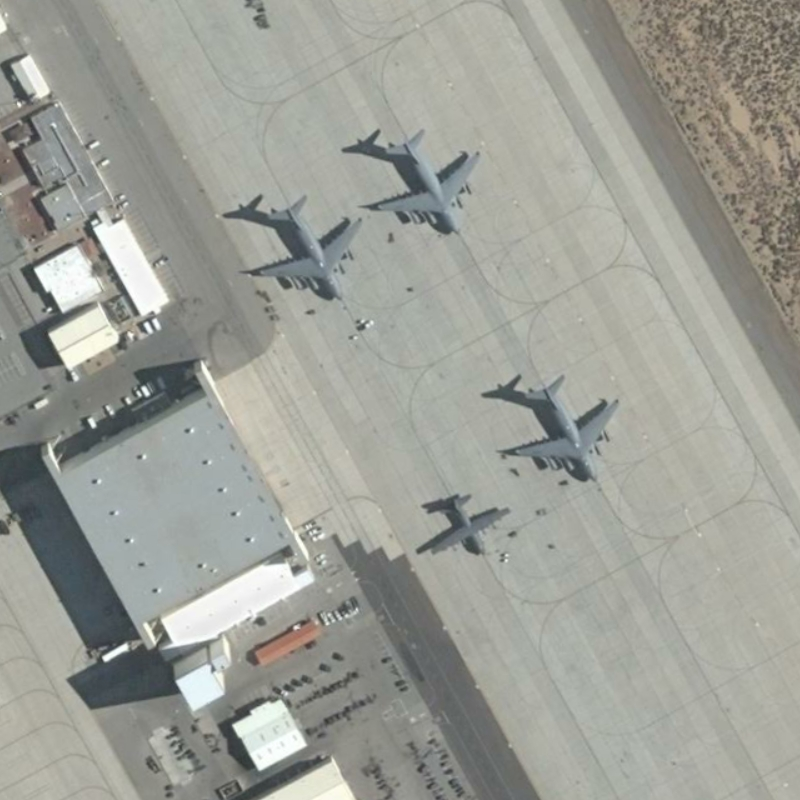A2: (414, 484, 513, 562)
A3: (497, 368, 625, 489), (357, 123, 489, 238), (238, 190, 365, 306)
